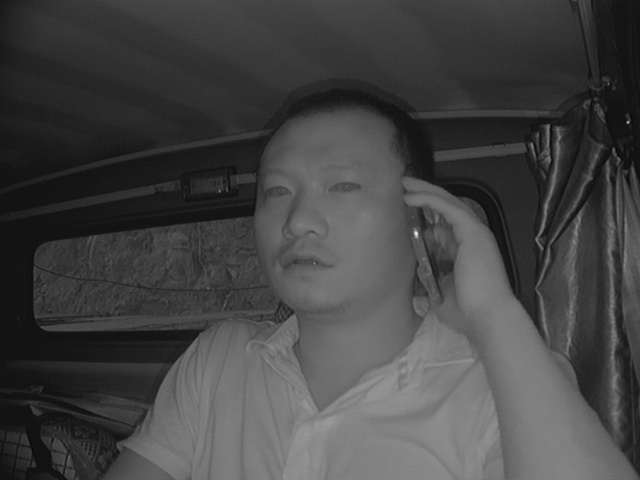hand: (397, 177, 512, 331)
